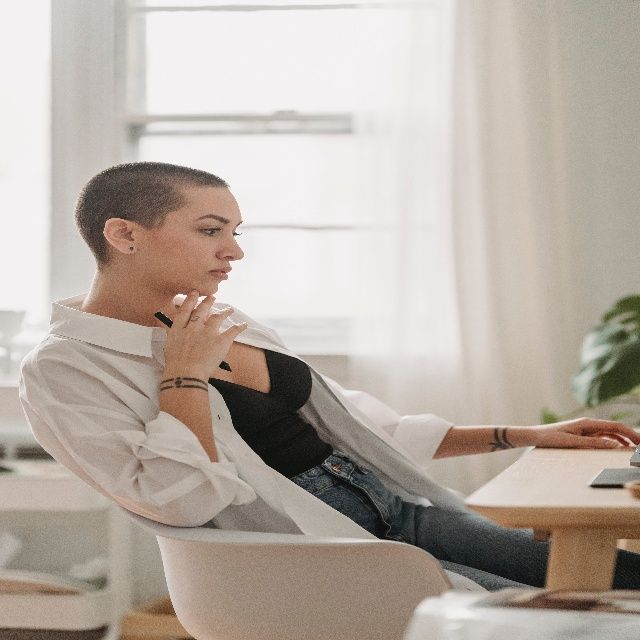Sin_guantes: (163, 289, 248, 380), (536, 417, 640, 449)
